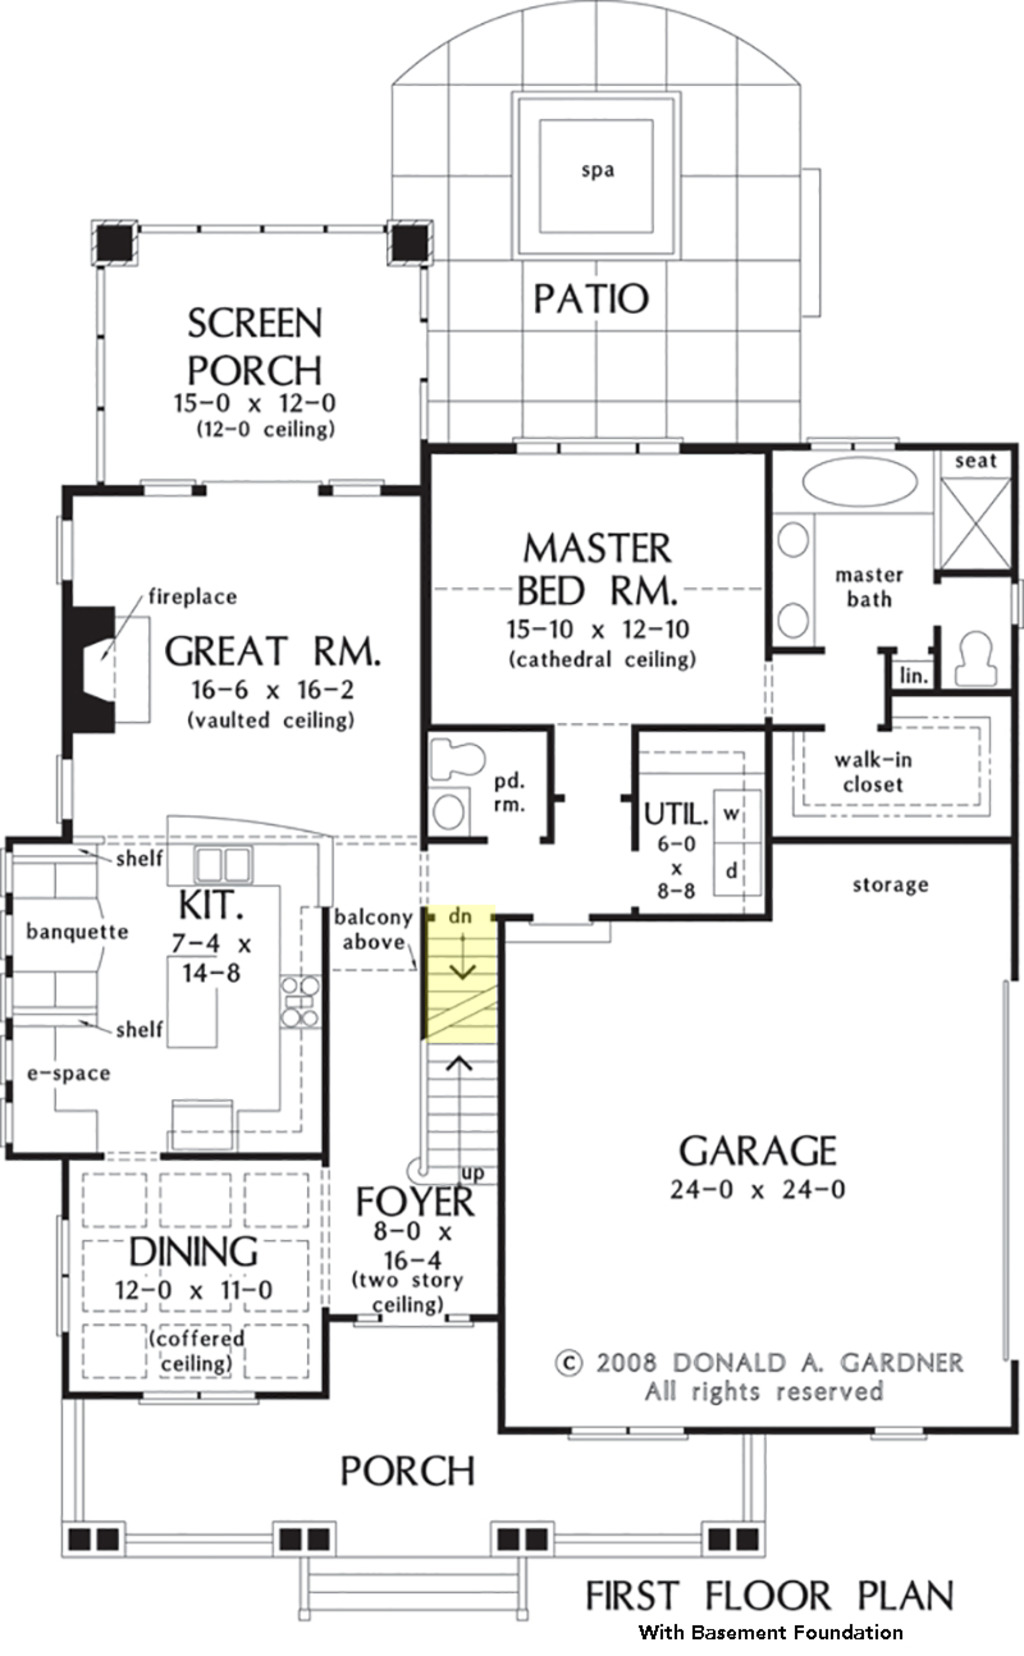large_sink: (428, 726, 508, 785), (950, 619, 1003, 683)
small_sink: (764, 506, 814, 665), (421, 785, 474, 839)
stairs: (397, 893, 505, 1190)
tub: (754, 442, 951, 515)
twin_sink: (187, 837, 268, 903)
window: (503, 416, 704, 457), (559, 1403, 692, 1457), (128, 1370, 267, 1416), (46, 511, 105, 599), (51, 1211, 85, 1347), (858, 1406, 944, 1457), (44, 748, 92, 824), (131, 478, 221, 506)
